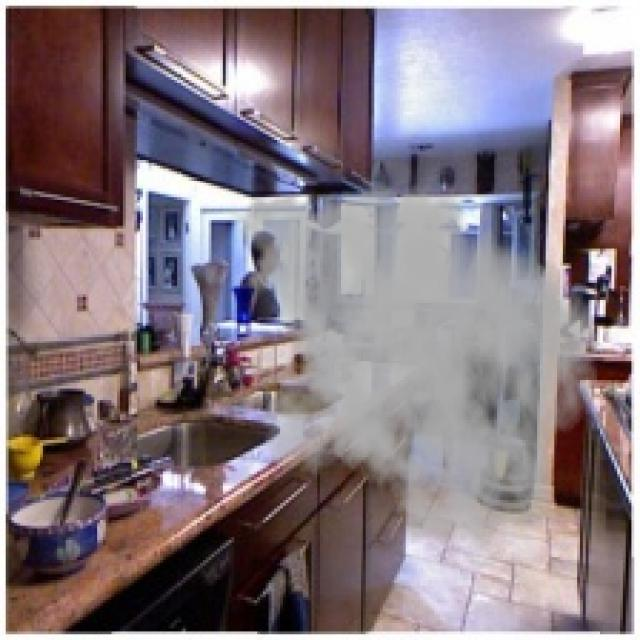smoke: (223, 171, 600, 560)
